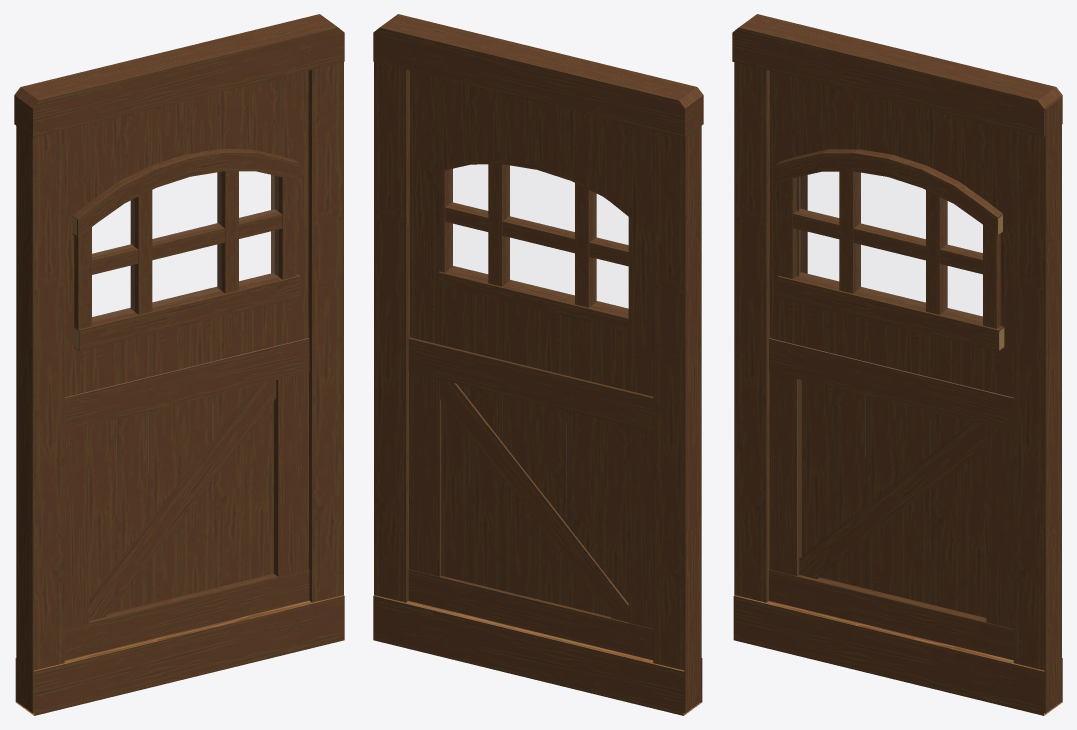
The model's file is Door.glb.
3 views of the same model, side by side, from view 1: azimuth 30°, elevation 25°; view 2: azimuth 150°, elevation 25°; view 3: azimuth 330°, elevation 25° (orthographic).
Parts seen in each view (by area): view 1: Door_1_Flat; view 2: Door_1_Flat; view 3: Door_1_Flat.
Part boxes in pixels (x1=…): Door_1_Flat: x1=14, y1=14, x2=344, y2=715; Door_1_Flat: x1=373, y1=14, x2=703, y2=715; Door_1_Flat: x1=732, y1=14, x2=1062, y2=715.
Bounding box in the file's own units: 1.12 × 2.1 × 0.1207.
2 materials, 1 textured.
